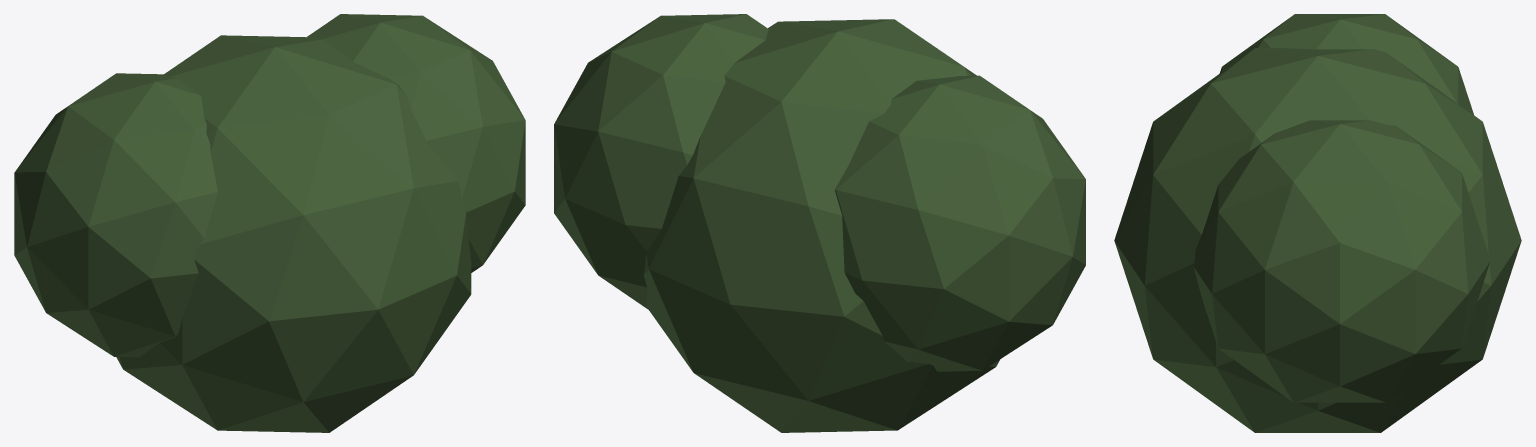
Rendered from bush.obj.
3 renders of one model, left to right at view 1: azimuth 30°, elevation 25°; view 2: azimuth 150°, elevation 25°; view 3: azimuth 270°, elevation 25°, orthographic. The views are drawn at different scales.
Parts seen in each view (by area): view 1: bush_0, bush_2, bush_1; view 2: bush_0, bush_2, bush_1; view 3: bush_1, bush_0, bush_2.
Part boxes in pixels (x1,y1,x2,y2): bush_0: (116,35,471,432); bush_2: (14,73,217,357); bush_1: (307,14,525,272); bush_0: (643,19,999,432); bush_2: (835,75,1085,371); bush_1: (554,14,768,309); bush_1: (1193,120,1490,402); bush_0: (1114,48,1521,432); bush_2: (1219,14,1473,114).
Bounding box in the file's own units: 1.25 × 0.92 × 0.92.
